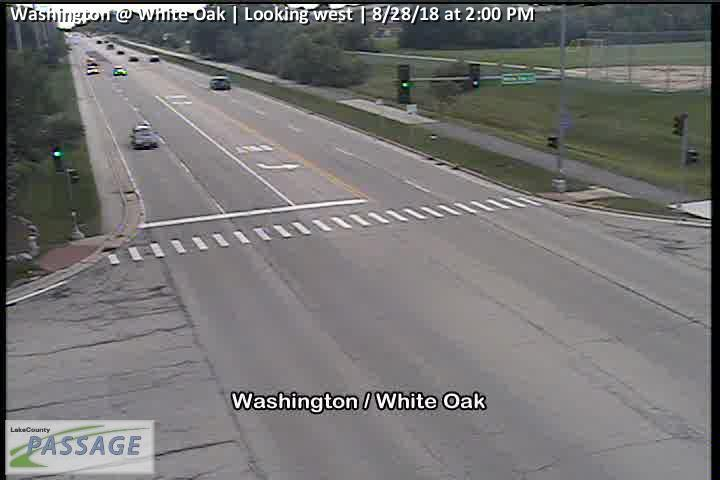SUV: (208, 75, 232, 91), (148, 54, 161, 62)
Sedan: (129, 122, 160, 151), (86, 64, 100, 75), (113, 67, 126, 76), (126, 55, 139, 63)
